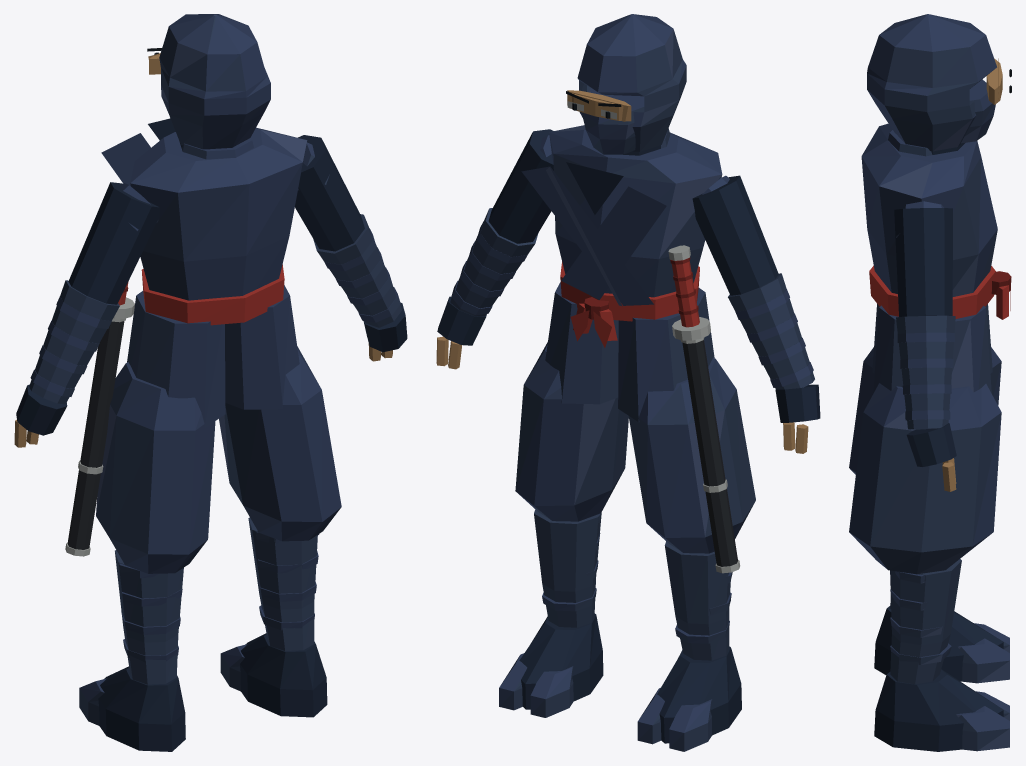
3 renders of one model, left to right at view 1: azimuth 30°, elevation 25°; view 2: azimuth 150°, elevation 25°; view 3: azimuth 270°, elevation 25°, orthographic. The views are drawn at different scales.
Size of the model in its own units: 0.985 by 1.7 by 0.3653.
